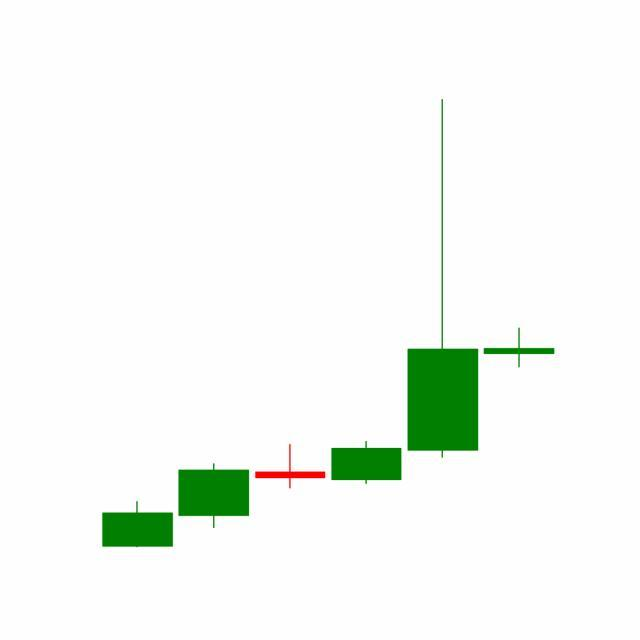Three Outside Up-Down: (252, 100, 482, 494)
